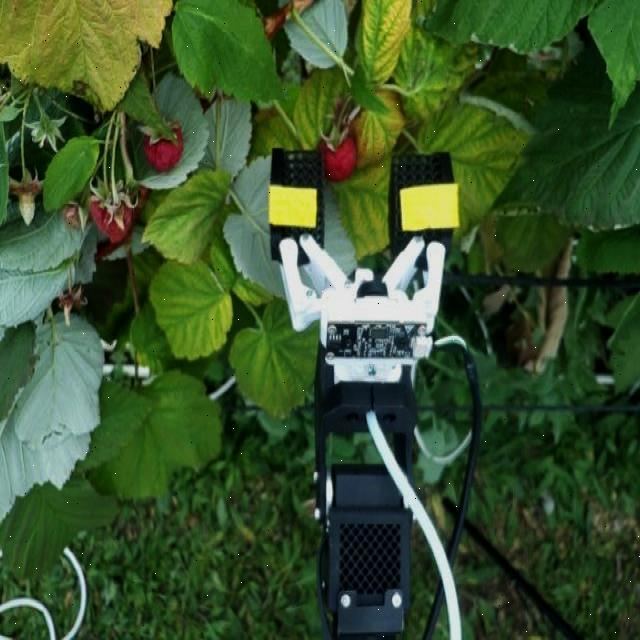Riped berries: (93, 182, 141, 244), (316, 125, 364, 181), (139, 119, 185, 173)
